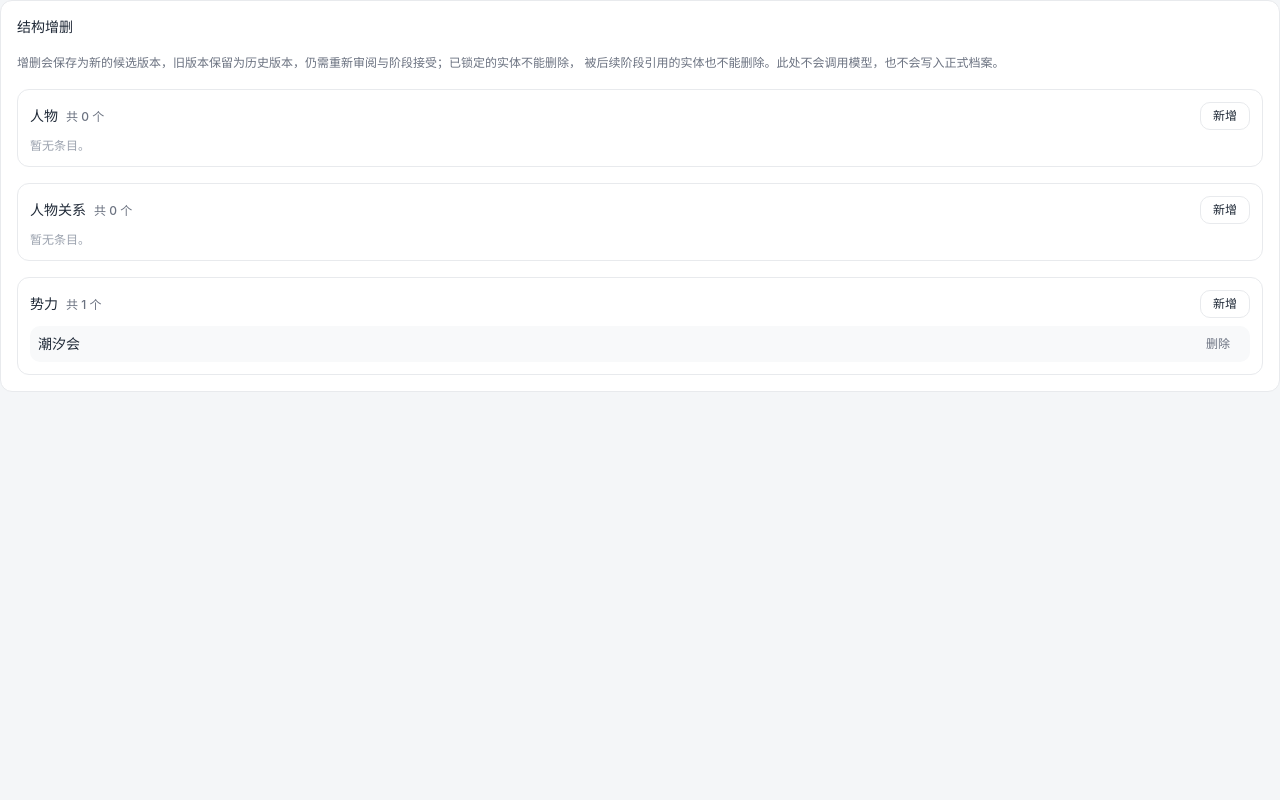
it: 上游集合为空时不允许提交，并提示先新增上游实体
This screenshot has width=1280, height=800.
Click the button with aria-label "新增人物关系" at (1225, 210), box left=1200, top=196, right=1250, bottom=224
(page scrolled)
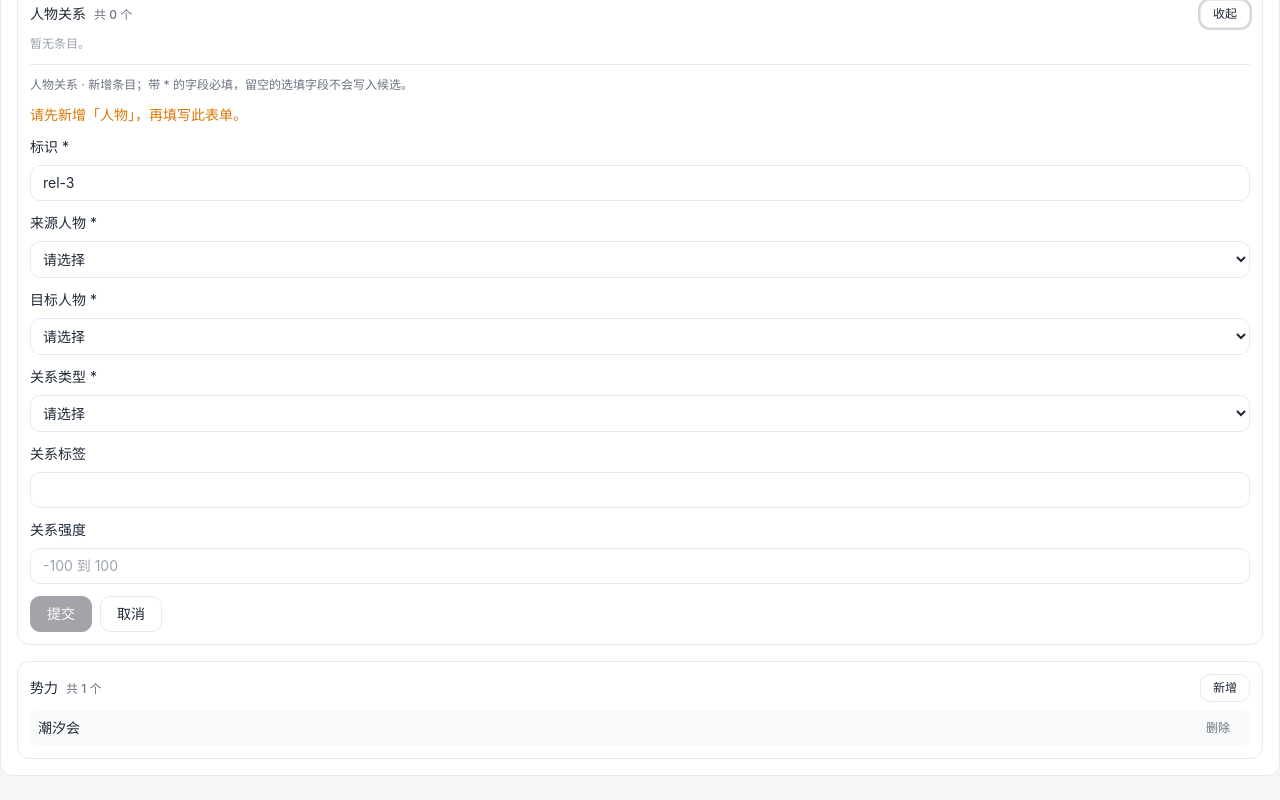
expect the message shows "请先新增「人物」": met, box left=30, top=106, right=247, bottom=122
expect the button with aria-label "提交新增人物关系" is disabled: met, box left=30, top=596, right=92, bottom=632
